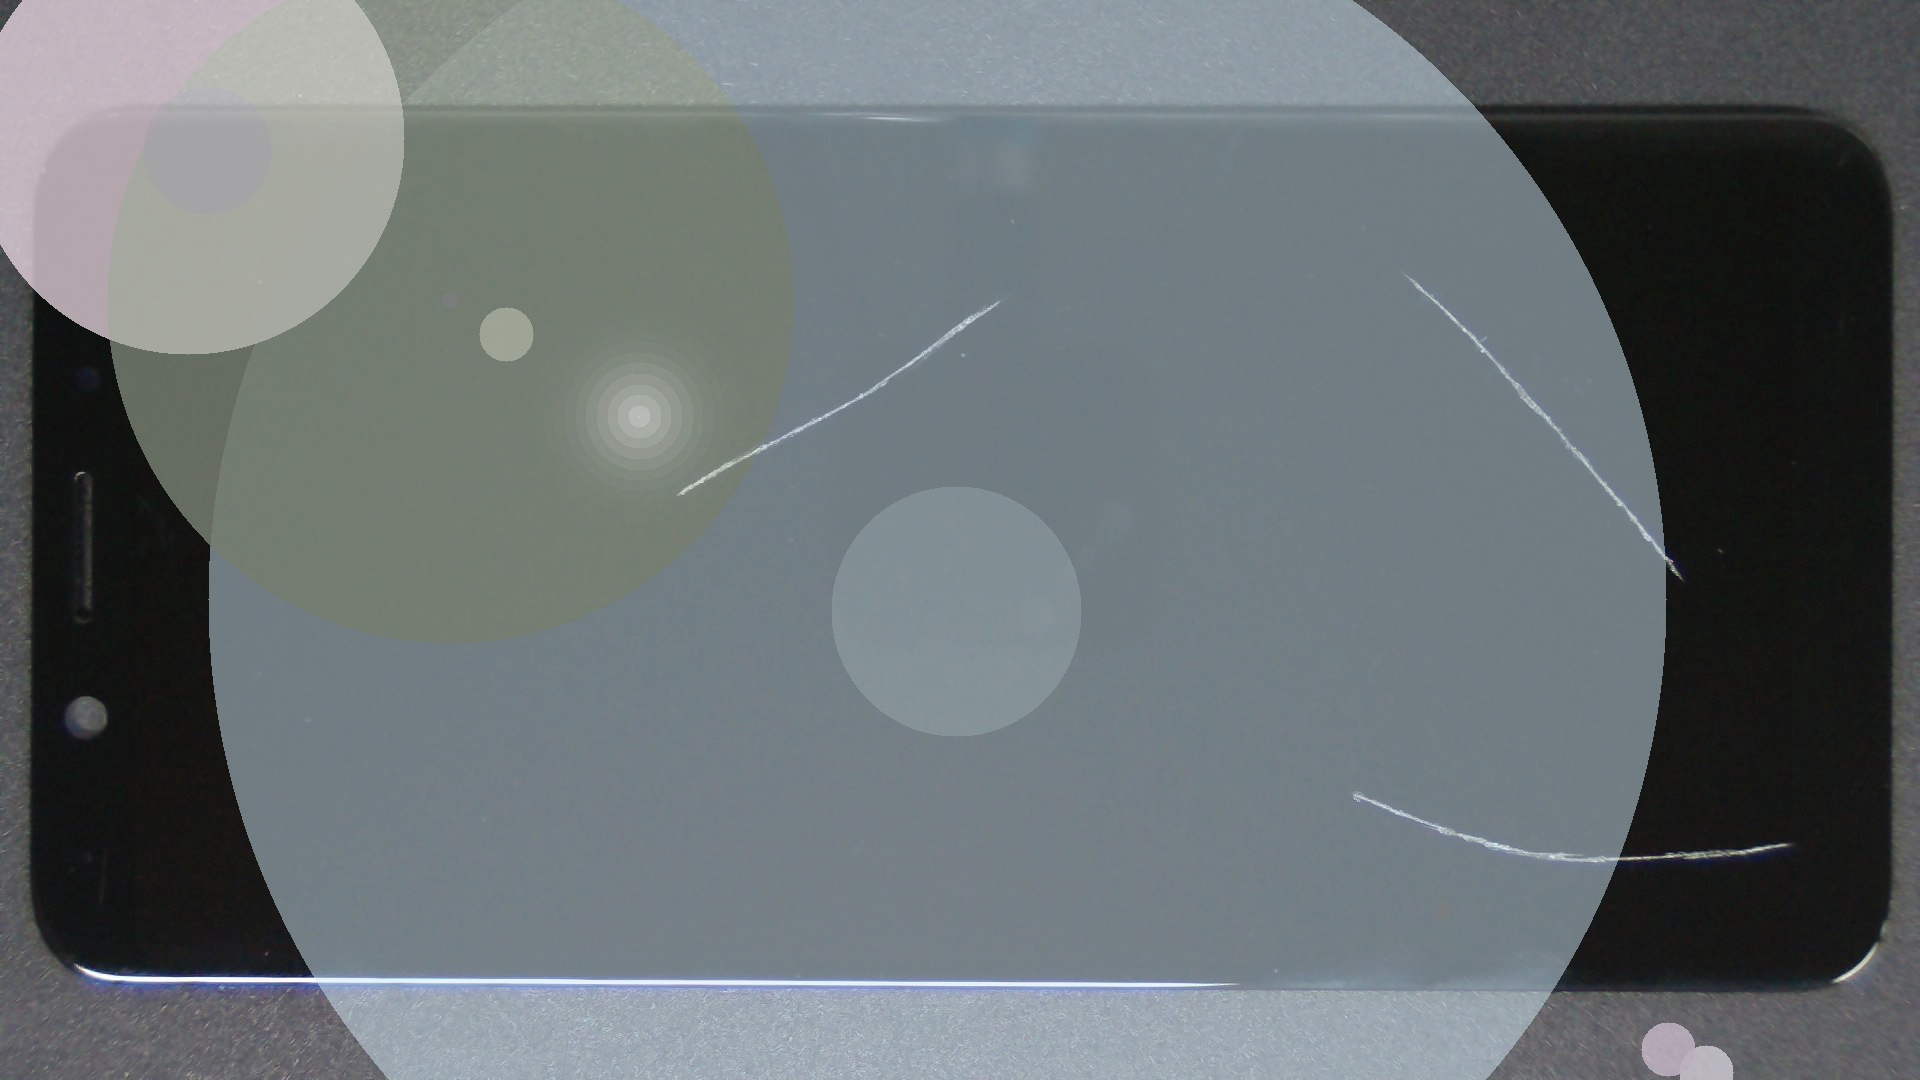oil: (679, 396, 1920, 1080), (702, 136, 1920, 410), (500, 149, 1494, 451)
